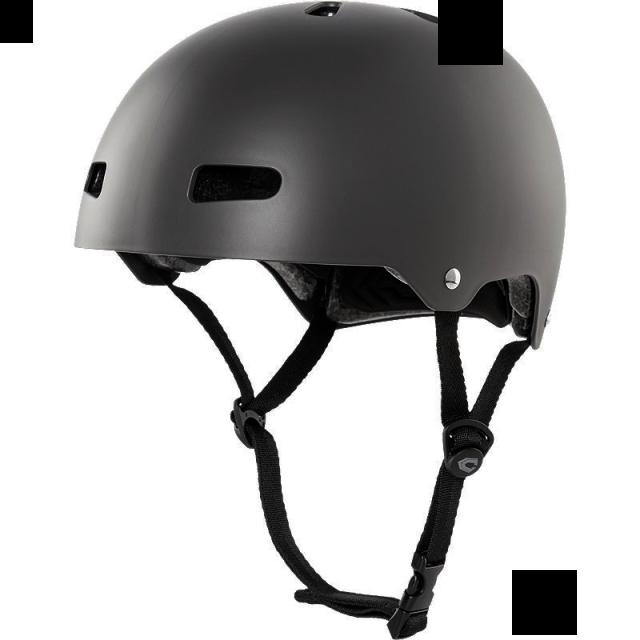Helmet: (74, 0, 568, 349)
